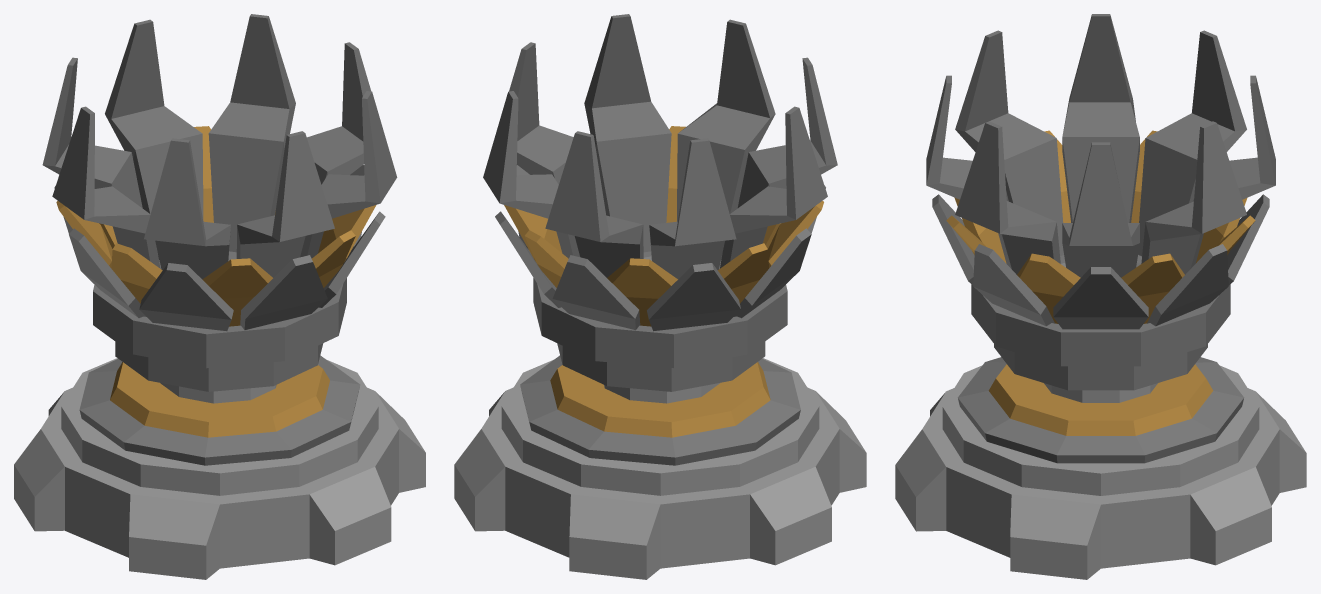
Rendered from Props_Teleporter_2.glb.
3 views of the same model, side by side, from view 1: azimuth 30°, elevation 25°; view 2: azimuth 150°, elevation 25°; view 3: azimuth 270°, elevation 25° (orthographic).
Parts seen in each view (by area): view 1: Props_Teleporter_2; view 2: Props_Teleporter_2; view 3: Props_Teleporter_2.
Part boxes in pixels (x1,y1,x2,y2): Props_Teleporter_2: (14,14,425,579); Props_Teleporter_2: (454,14,866,579); Props_Teleporter_2: (895,14,1306,579).
Bounding box in the file's own units: 0.41 × 0.4552 × 0.41.
